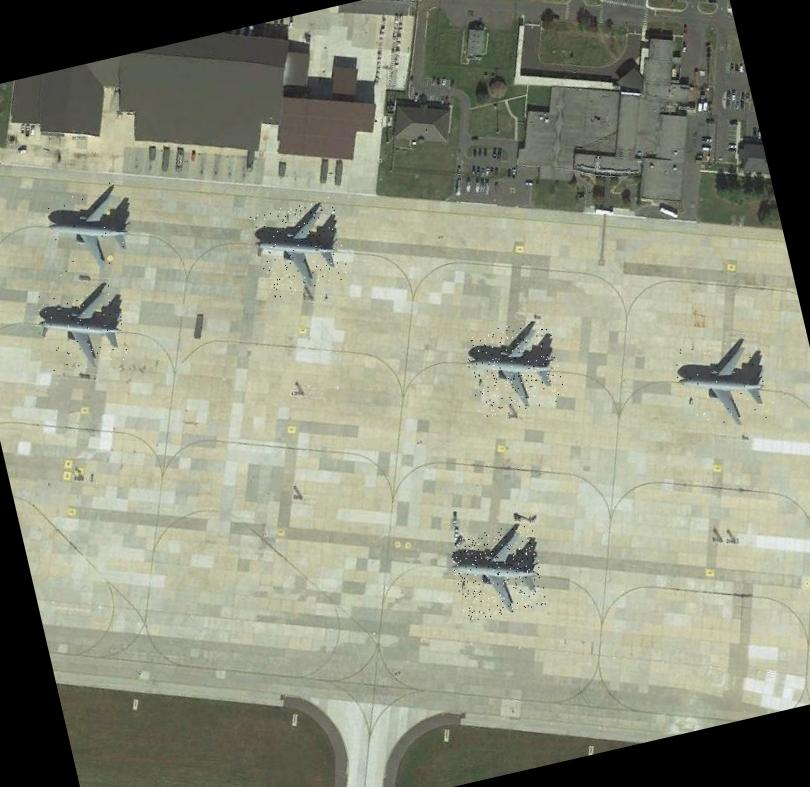A18: (671, 330, 778, 438), (248, 196, 351, 300), (462, 316, 566, 419), (447, 521, 550, 622), (39, 176, 141, 277), (34, 277, 136, 377)
